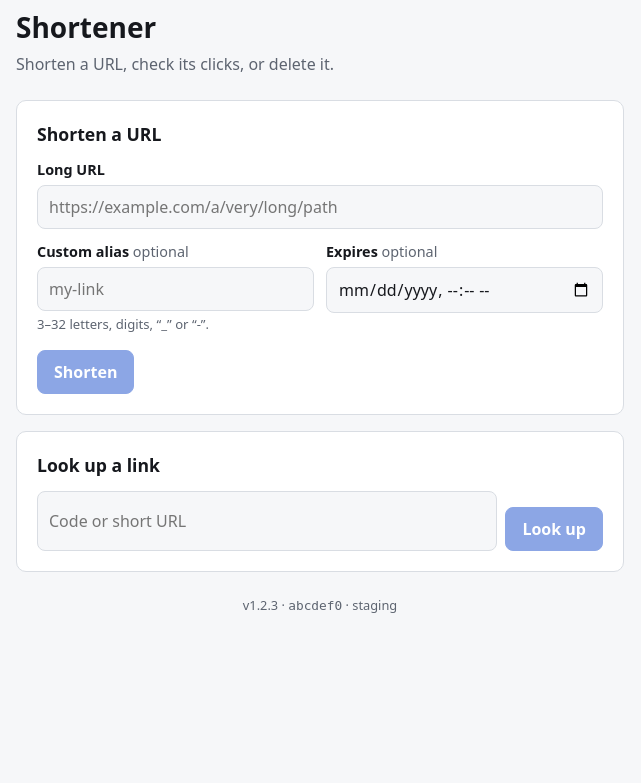
looking up a link › flags expired links
Type "promo" into the field named "Short code or URL" at (267, 521), box [37,491,497,551]
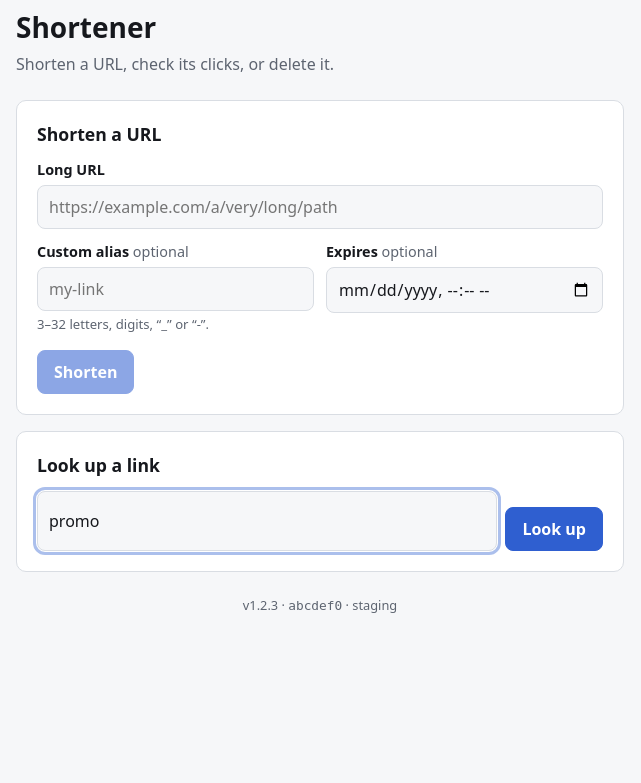
Click the button "Look up" at (554, 529), box [505,507,603,551]
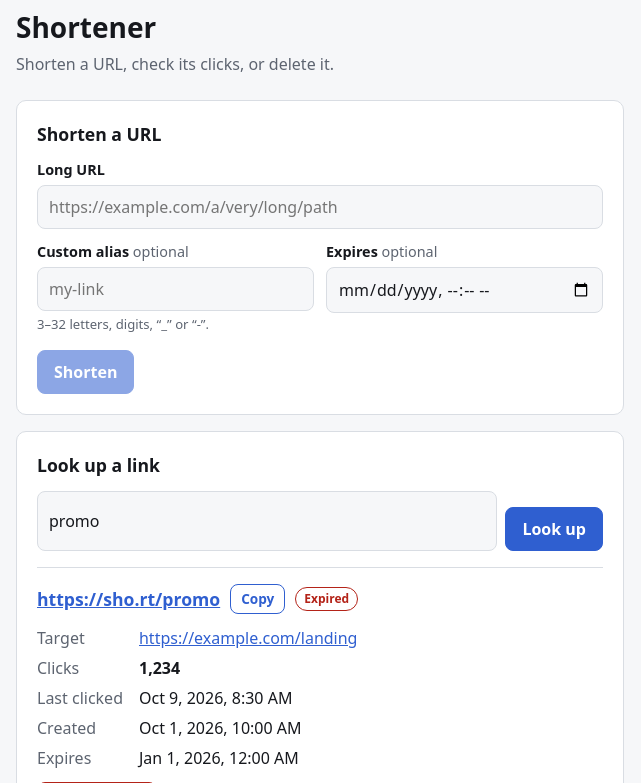
Check: the text "Expired" is shown, box [295,587,358,611]
